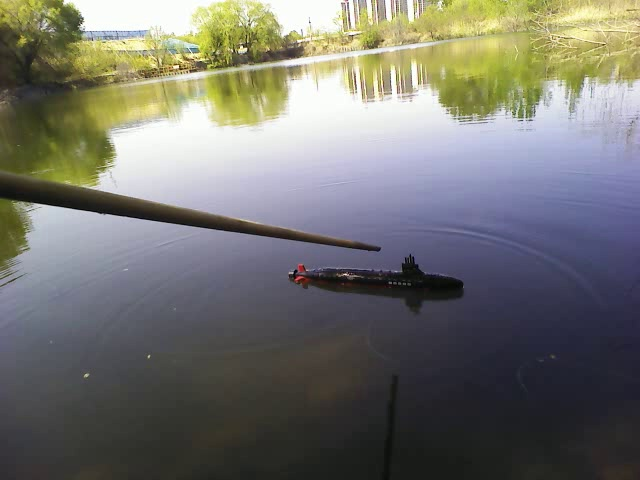submarine: (280, 253, 473, 297)
